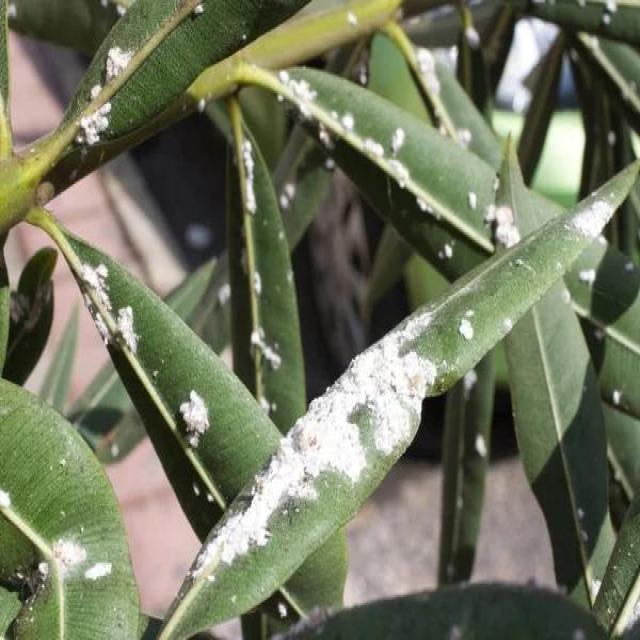Psyllid: (160, 160, 639, 638), (62, 230, 273, 515), (271, 67, 477, 280), (227, 133, 305, 416), (0, 485, 139, 638), (52, 0, 149, 178), (483, 202, 521, 250)
